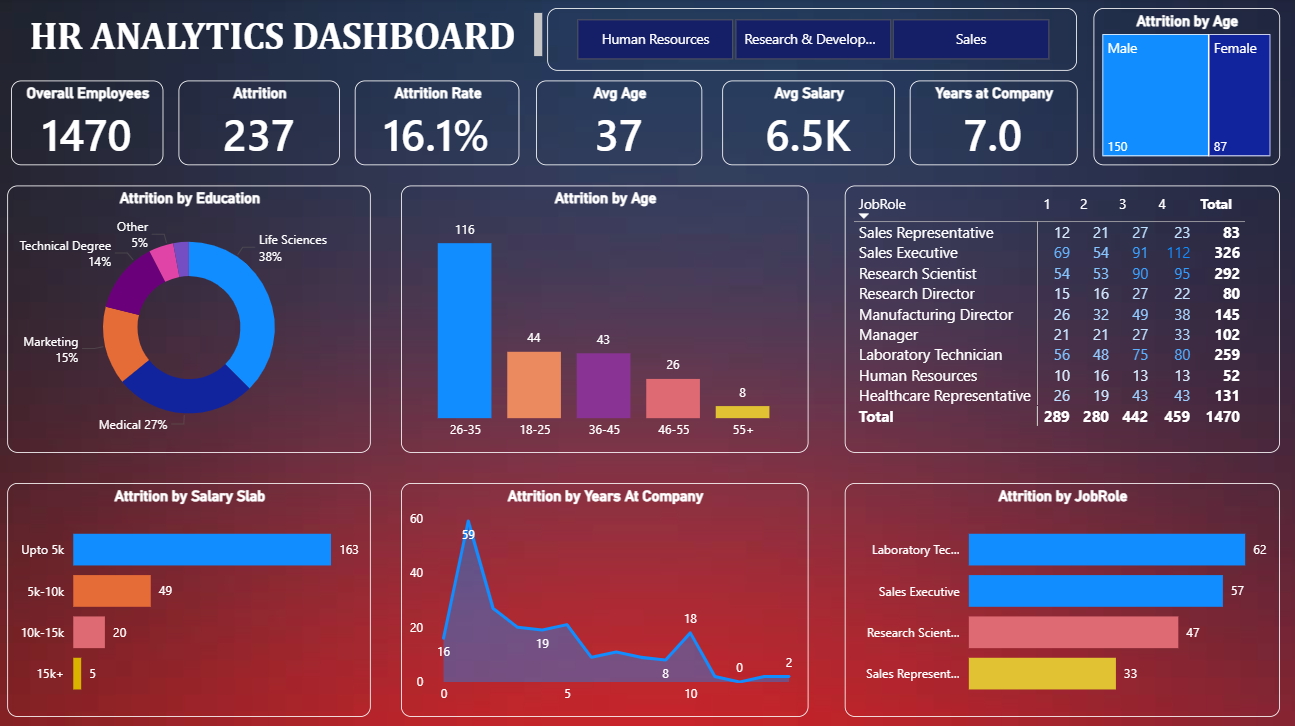

Layout of this report page (visuals, bound fields, positions):
{"tool":"powerbi","page":{"name":"Page 1","canvas":[1280,720],"ordinal":0},"visuals":[{"type":"textbox","box":[9.8,9.8,531.3,52.8],"z":0},{"type":"cardVisual","title":"Overall Employees","fields":{"Data":["CountNonNull(HR_Analytics.EmpID)"]},"box":[14.7,81,149.7,83.4],"z":1000},{"type":"cardVisual","title":"Attrition","fields":{"Data":["Sum(HR_Analytics.AttritionCount)"]},"box":[179.1,81,158.3,83.4],"z":2000},{"type":"cardVisual","title":"Attrition Rate","fields":{"Data":["HR_Analytics.Attrition Rate"]},"box":[352.1,81,162,83.4],"z":3000},{"type":"cardVisual","title":"Avg Age","fields":{"Data":["Avg(HR_Analytics.Age)"]},"box":[530.1,81,163.2,83.4],"z":4000},{"type":"cardVisual","title":"Avg Salary","fields":{"Data":["Avg(HR_Analytics.MonthlyIncome)"]},"box":[712.9,81,169.3,83.4],"z":5000},{"type":"cardVisual","title":"Years at Company","fields":{"Data":["Avg(HR_Analytics.YearsAtCompany)"]},"box":[896.9,81,164.4,83.4],"z":6000},{"type":"donutChart","title":"Attrition by Education","fields":{"Category":["HR_Analytics.EducationField"],"Y":["Sum(HR_Analytics.AttritionCount)"]},"box":[11,184.1,357.1,262.6],"z":7000},{"type":"slicer","fields":{"Values":["HR_Analytics.Department"]},"box":[541.1,9.8,520.2,61.4],"z":8000},{"type":"barChart","title":"Attrition by Salary Slab","fields":{"Category":["HR_Analytics.SalarySlab"],"Y":["Sum(HR_Analytics.AttritionCount)"]},"box":[11,476.1,357.1,229.4],"z":9000},{"type":"columnChart","title":"Attrition by Age","fields":{"Y":["Sum(HR_Analytics.AttritionCount)"],"Category":["HR_Analytics.AgeGroup"]},"box":[397.5,184.1,400,262.6],"z":10000},{"type":"lineChart","title":"Attrition by Years At Company","fields":{"Y":["Sum(HR_Analytics.AttritionCount)"],"Category":["HR_Analytics.YearsAtCompany"]},"box":[397.5,476.1,400,229.4],"z":11000},{"type":"pivotTable","fields":{"Rows":["HR_Analytics.JobRole"],"Columns":["HR_Analytics.JobSatisfaction"],"Values":["CountNonNull(HR_Analytics.Age)"]},"box":[833.1,184.1,427,262.6],"z":12000},{"type":"barChart","title":"Attrition by JobRole","fields":{"Category":["HR_Analytics.JobRole"],"Y":["Sum(HR_Analytics.AttritionCount)"]},"box":[833.1,476.1,427,229.4],"z":13000},{"type":"treemap","title":"Attrition by Age","fields":{"Group":["HR_Analytics.Gender"],"Values":["Sum(HR_Analytics.AttritionCount)"]},"box":[1077.3,9.8,182.8,154.6],"z":14000}]}

Visuals, with their boxes in screenshot pixels (x1, y1, x2, y2), scaled from the page's 1280x720 canvas onto the 1295x726 screenshot:
textbox: {"left": 10, "top": 10, "right": 547, "bottom": 63}
"Overall Employees" cardVisual: {"left": 15, "top": 82, "right": 166, "bottom": 166}
"Attrition" cardVisual: {"left": 181, "top": 82, "right": 341, "bottom": 166}
"Attrition Rate" cardVisual: {"left": 356, "top": 82, "right": 520, "bottom": 166}
"Avg Age" cardVisual: {"left": 536, "top": 82, "right": 701, "bottom": 166}
"Avg Salary" cardVisual: {"left": 721, "top": 82, "right": 893, "bottom": 166}
"Years at Company" cardVisual: {"left": 907, "top": 82, "right": 1074, "bottom": 166}
"Attrition by Education" donutChart: {"left": 11, "top": 186, "right": 372, "bottom": 450}
slicer - HR_Analytics.Department: {"left": 547, "top": 10, "right": 1074, "bottom": 72}
"Attrition by Salary Slab" barChart: {"left": 11, "top": 480, "right": 372, "bottom": 711}
"Attrition by Age" columnChart: {"left": 402, "top": 186, "right": 807, "bottom": 450}
"Attrition by Years At Company" lineChart: {"left": 402, "top": 480, "right": 807, "bottom": 711}
pivotTable - HR_Analytics.JobRole x HR_Analytics.JobSatisfaction: {"left": 843, "top": 186, "right": 1275, "bottom": 450}
"Attrition by JobRole" barChart: {"left": 843, "top": 480, "right": 1275, "bottom": 711}
"Attrition by Age" treemap: {"left": 1090, "top": 10, "right": 1275, "bottom": 166}
